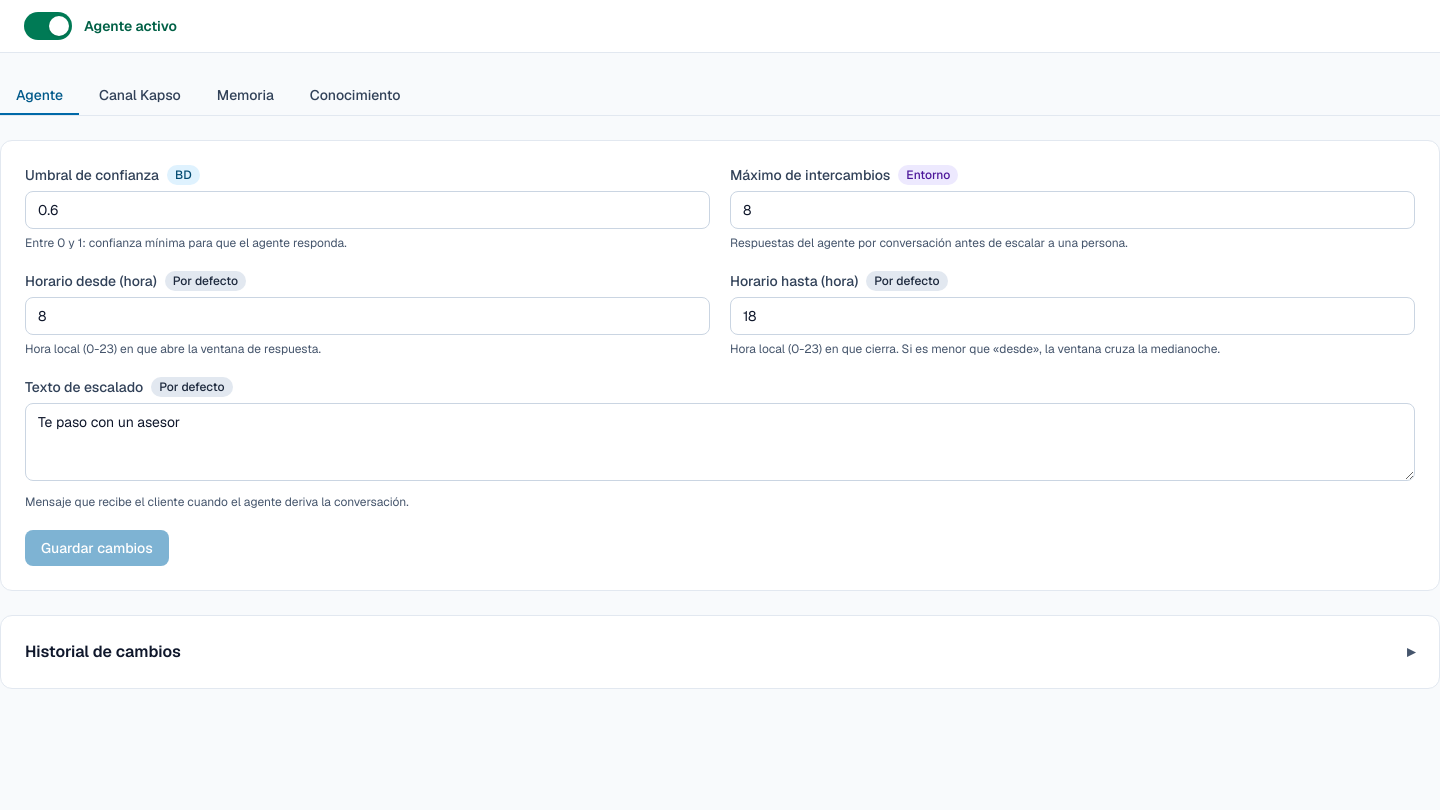
PanelConfiguracion — tab Canal Kapso › muestra la URL del webhook y la copia
Click the tab "Canal Kapso": (140, 96) [83, 77, 197, 115]
(page scrolled)
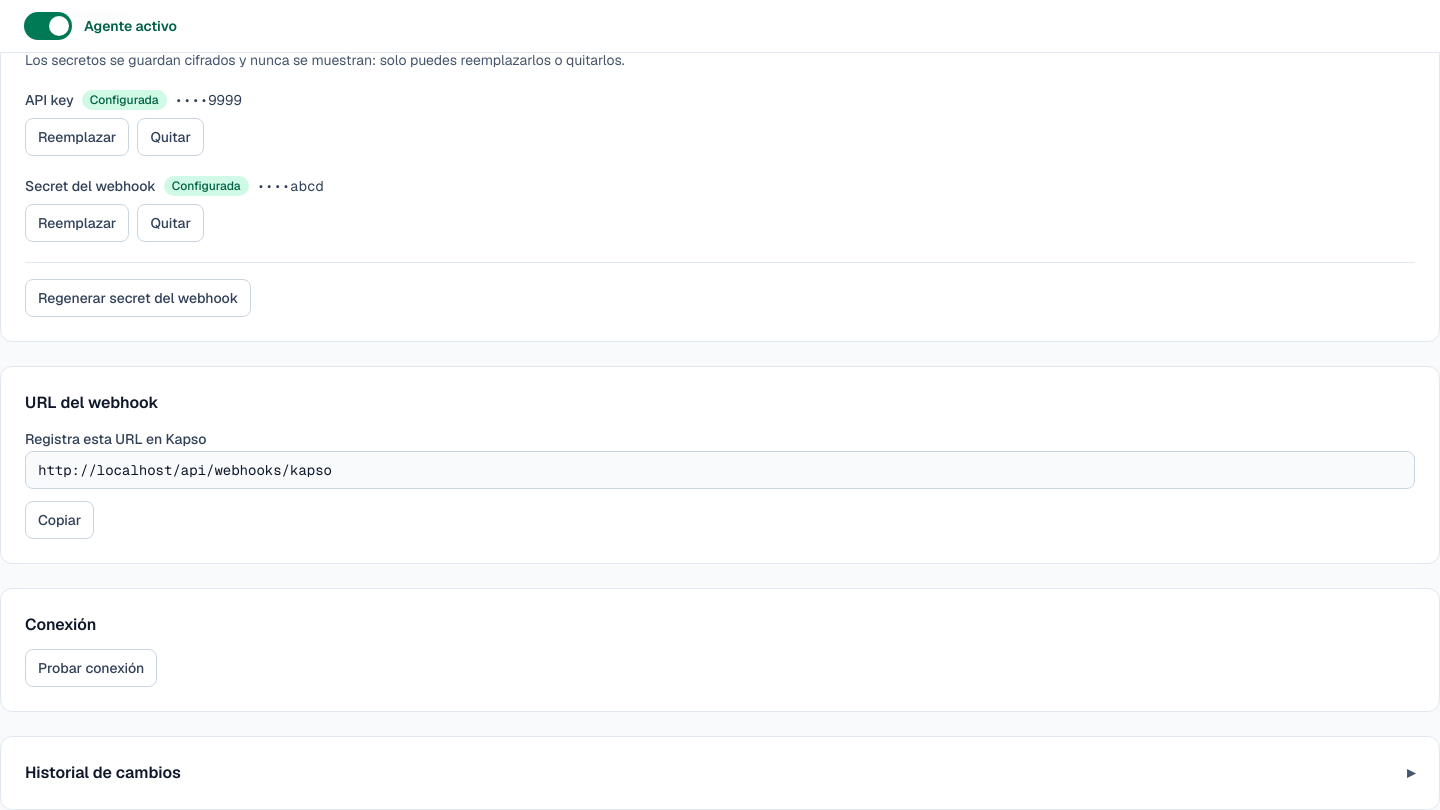
Click the button with aria-label "Copiar URL del webhook": (60, 520) [25, 501, 94, 539]
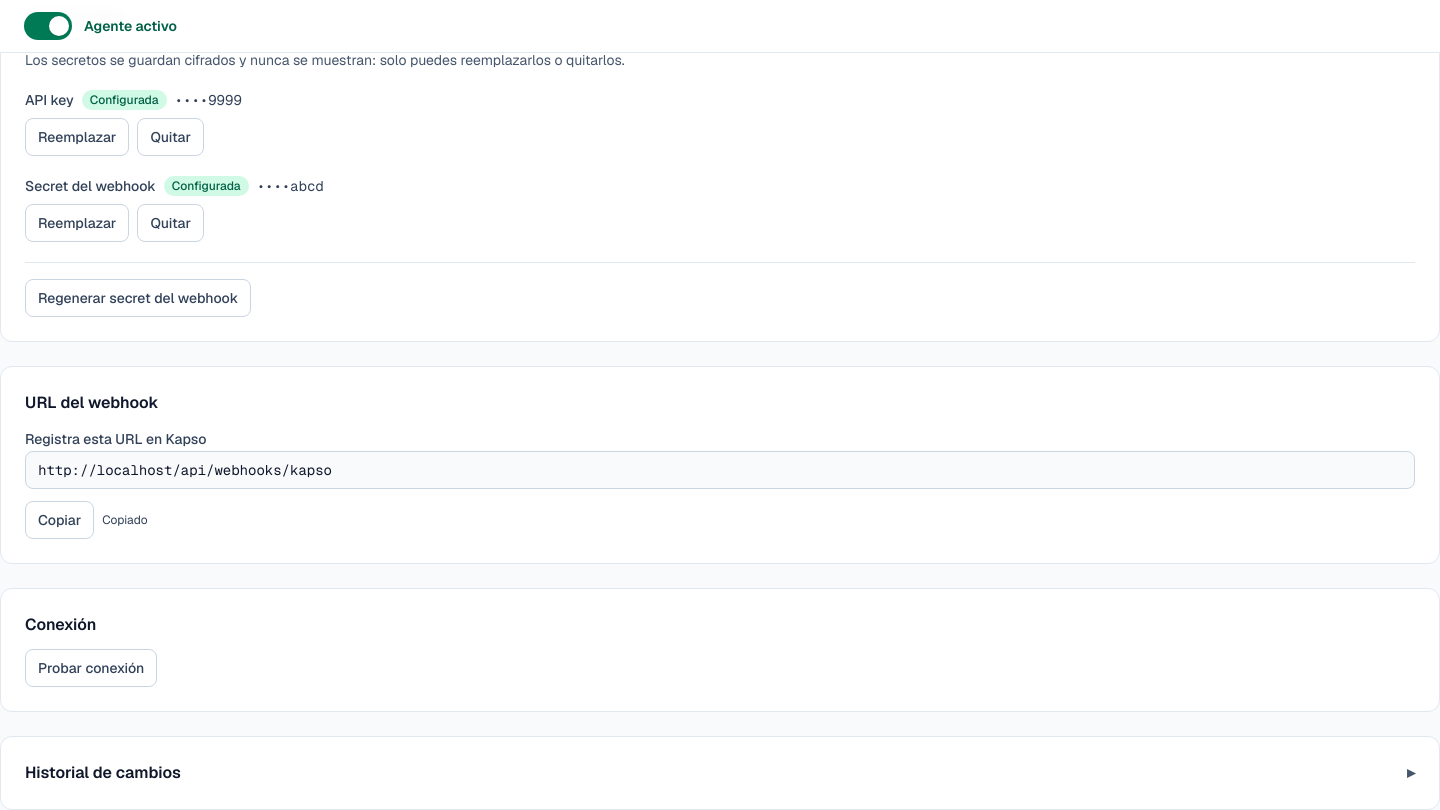
Result: the text "Copiado" is shown at [102, 512, 148, 528]
